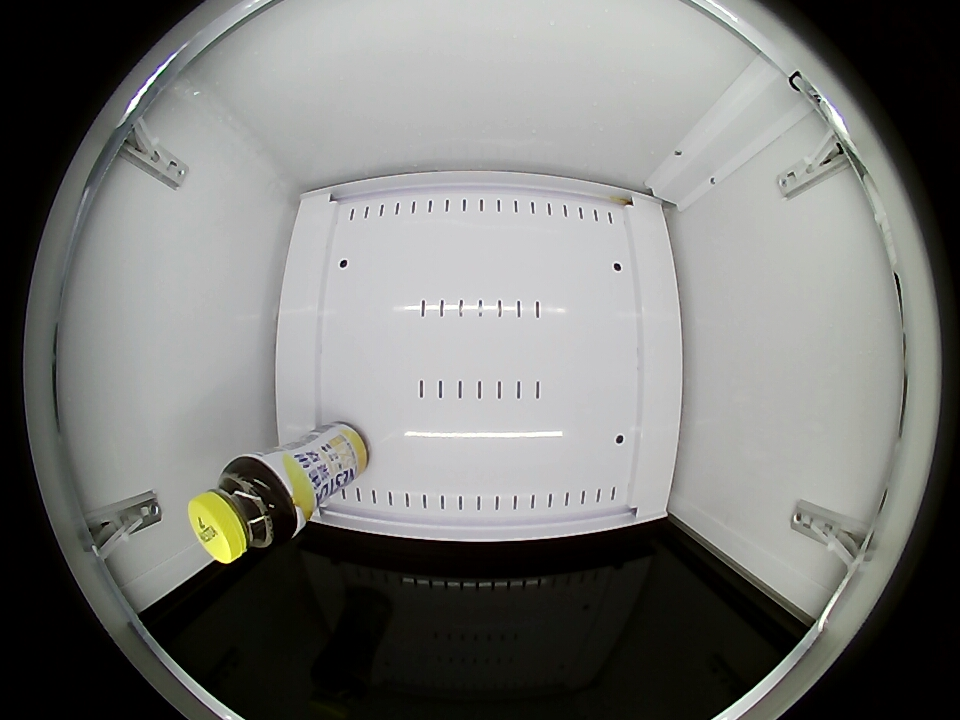chacui: (189, 457, 297, 563)
